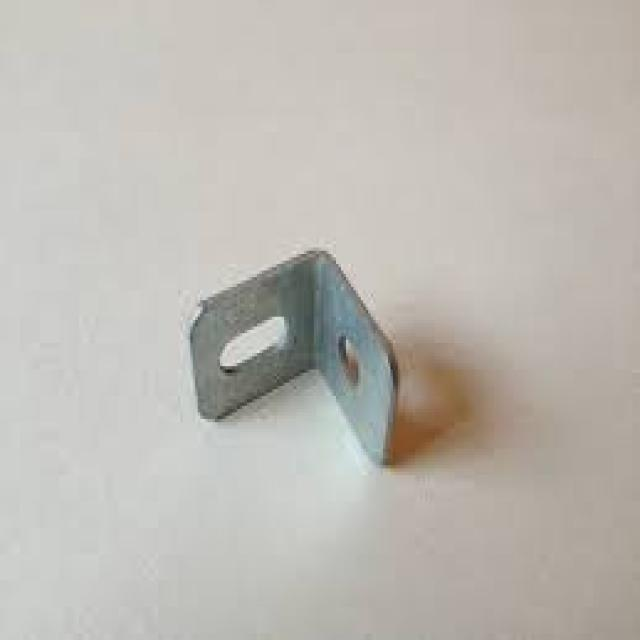holes: (215, 311, 290, 373), (338, 327, 364, 396)
